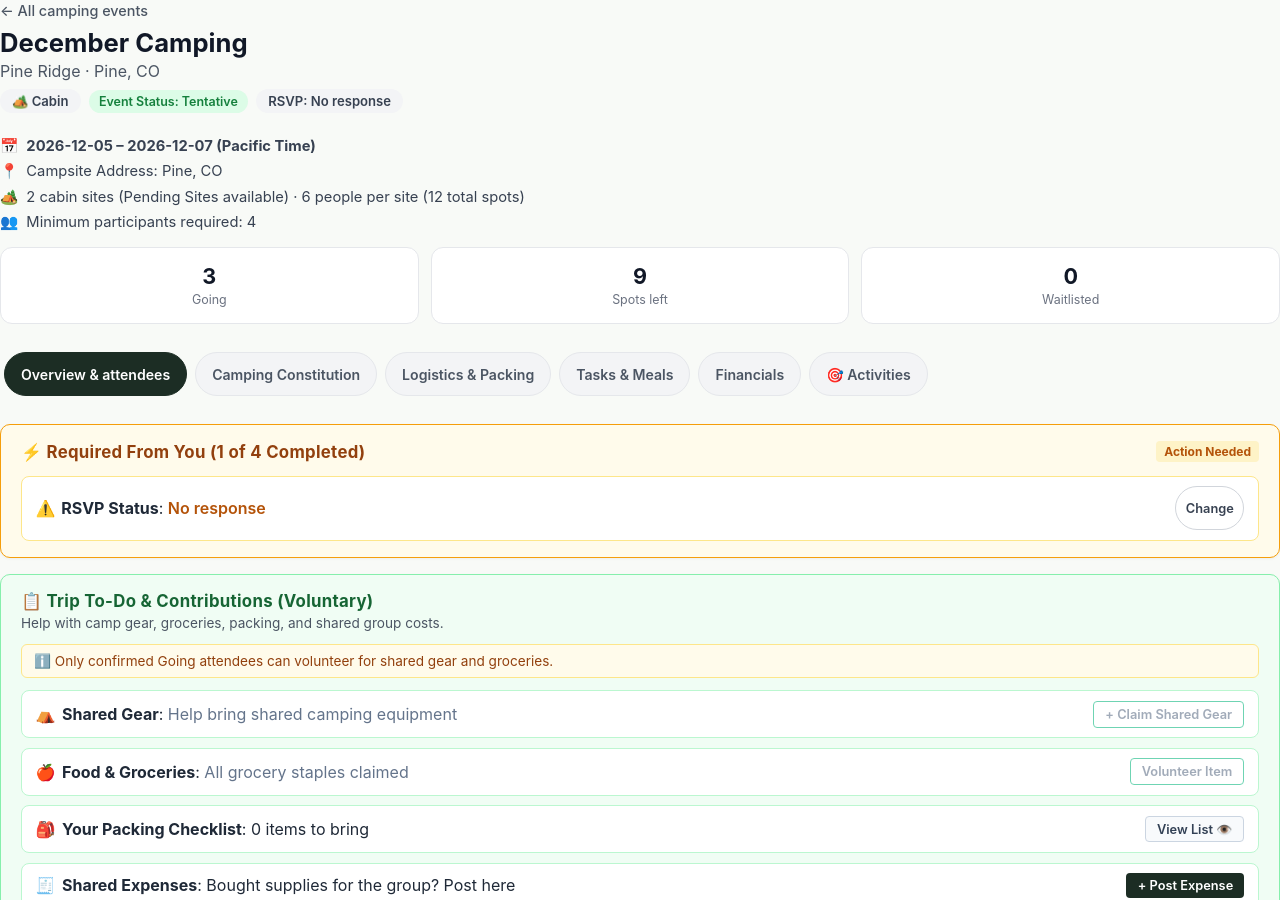
EventDetailsPage › switches to Logistics tab and displays additional information, instructions and directions
This screenshot has width=1280, height=900.
Expected: the heading "December Camping" is shown, x1=0 y1=27 x2=248 y2=58
Click the tab "Logistics & Packing". click: (468, 374)
box: x1=385 y1=352 x2=551 y2=396
(page scrolled)
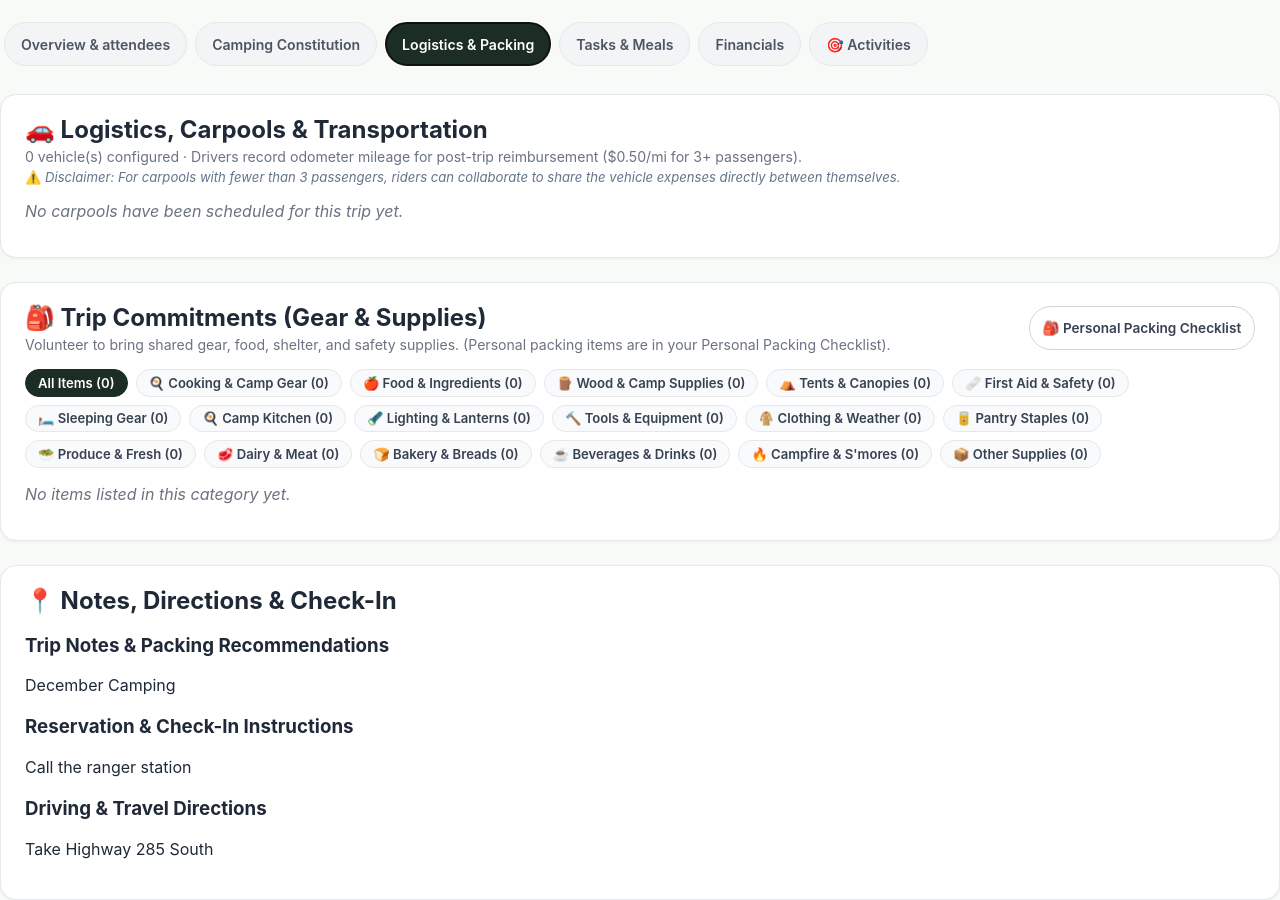
Now the heading "🚗 Logistics, Carpools & Transportation" is shown, box x1=25 y1=115 x2=488 y2=144
Now the text "Call the ranger station" is shown, box x1=25 y1=757 x2=192 y2=777
Now the text "Take Highway 285 South" is shown, box x1=25 y1=839 x2=213 y2=859
